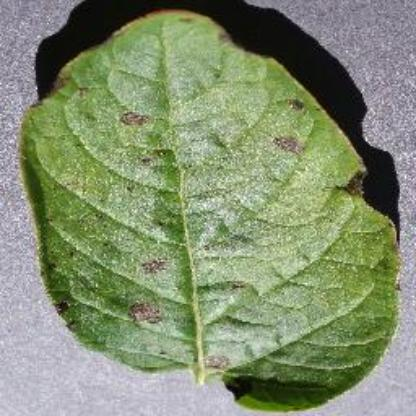Early-Blight: (21, 3, 399, 411)
